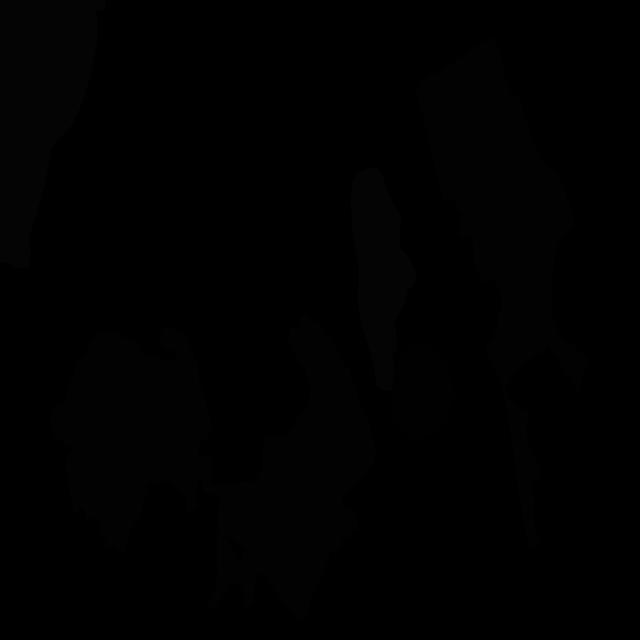cardboard: (415, 36, 590, 548), (50, 326, 213, 554), (185, 410, 358, 569), (286, 316, 376, 507), (205, 522, 330, 623)
rigid_plastic: (390, 343, 454, 440)
soft_plastic: (350, 167, 417, 391)
